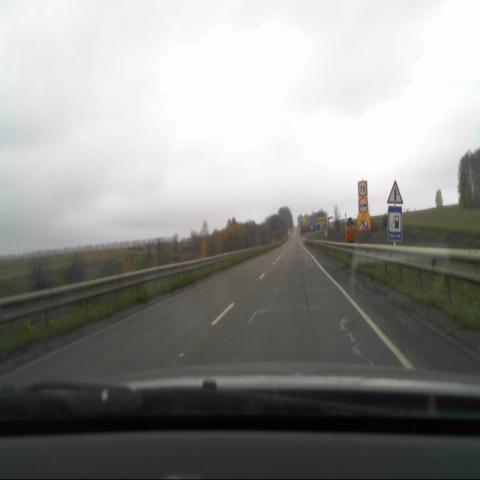2_3_2: (387, 179, 403, 205)
7_3: (388, 206, 402, 242)
